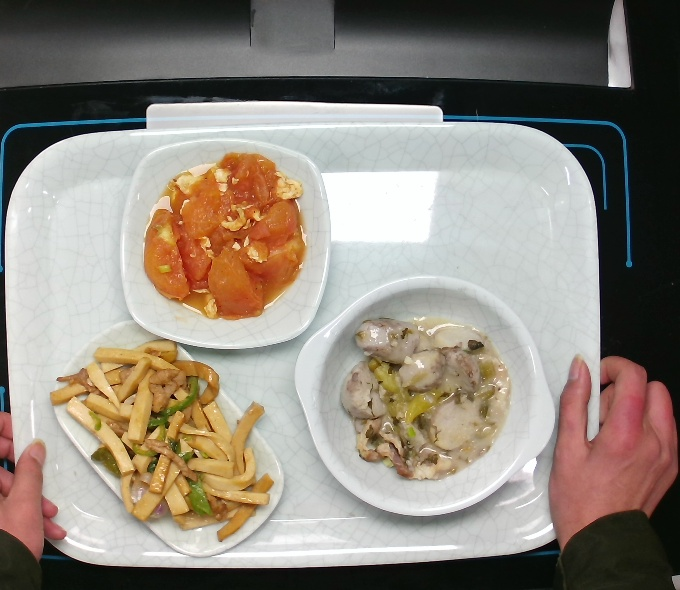wcq-FanQieChaoDan: (132, 152, 316, 324)
wcq-QianYeDouFu: (46, 330, 282, 550)
wcq-YangYu: (333, 309, 513, 490)
